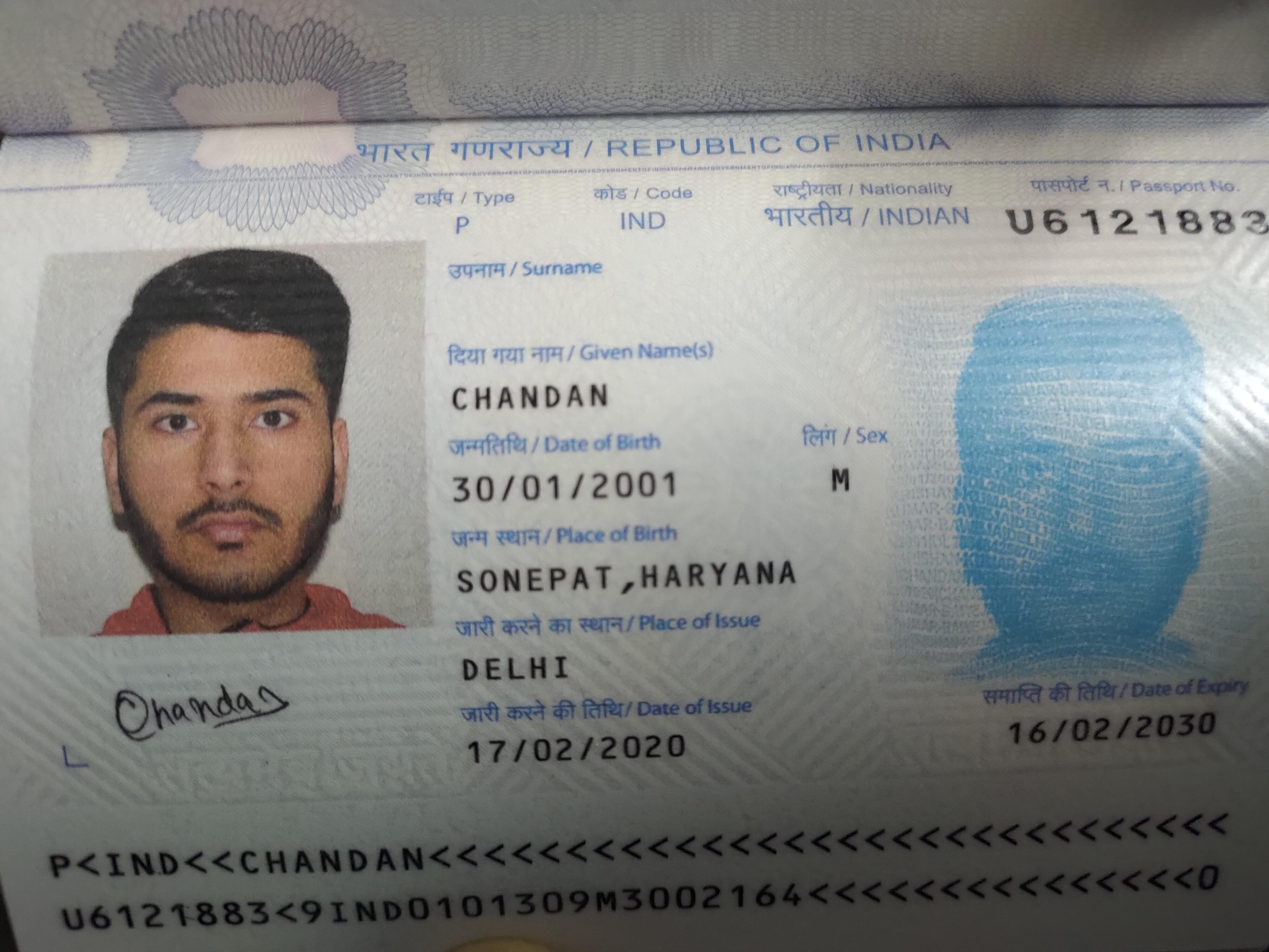DOB: (444, 463, 685, 512)
country_code: (603, 202, 675, 238)
date_of_expiry: (990, 707, 1231, 754)
date_of_issue: (447, 722, 697, 780)
details: (27, 814, 1241, 929)
name: (438, 378, 660, 425)
nationality: (747, 197, 978, 232)
passport_no: (987, 197, 1269, 254)
photo: (38, 251, 403, 616)
place_of_birth: (438, 552, 825, 603)
place_of_issue: (443, 644, 598, 701)
sex: (812, 457, 881, 502)
sign: (76, 674, 312, 751)
type: (443, 206, 479, 243)
